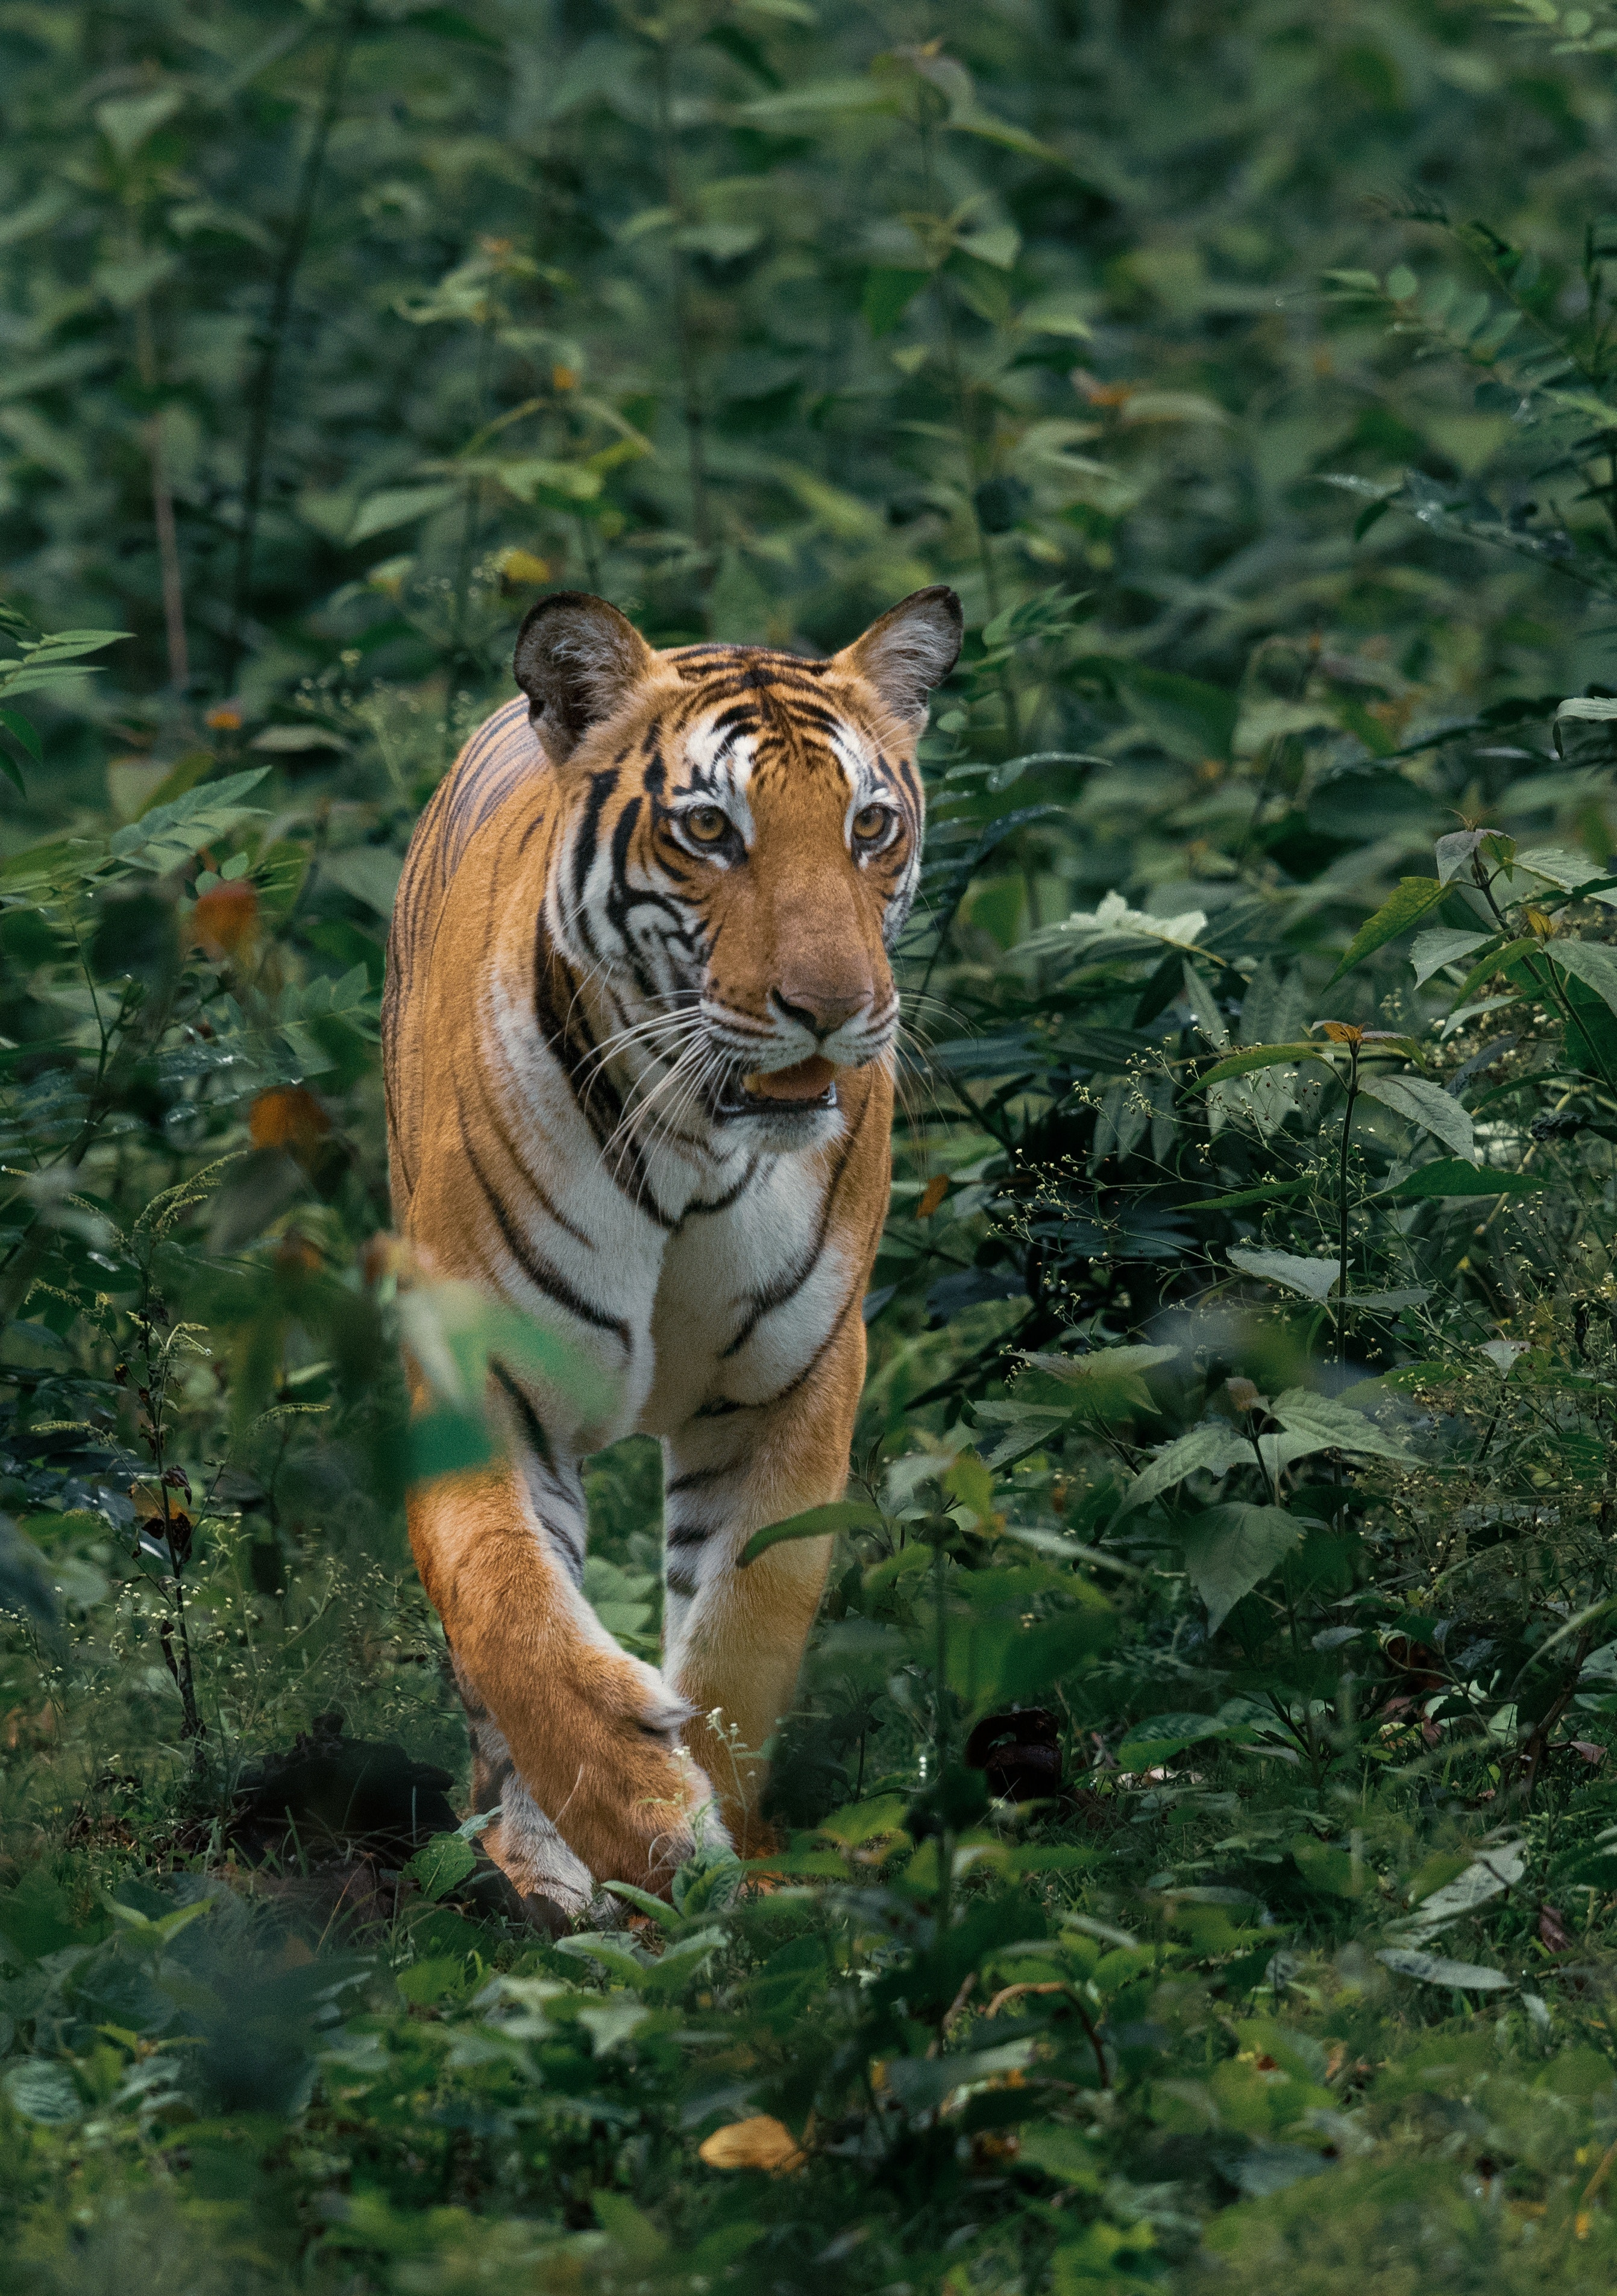tiger: (304, 593, 985, 1892)
